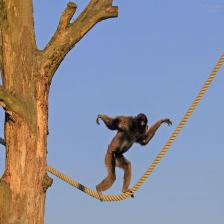monkey: (96, 104, 174, 204)
